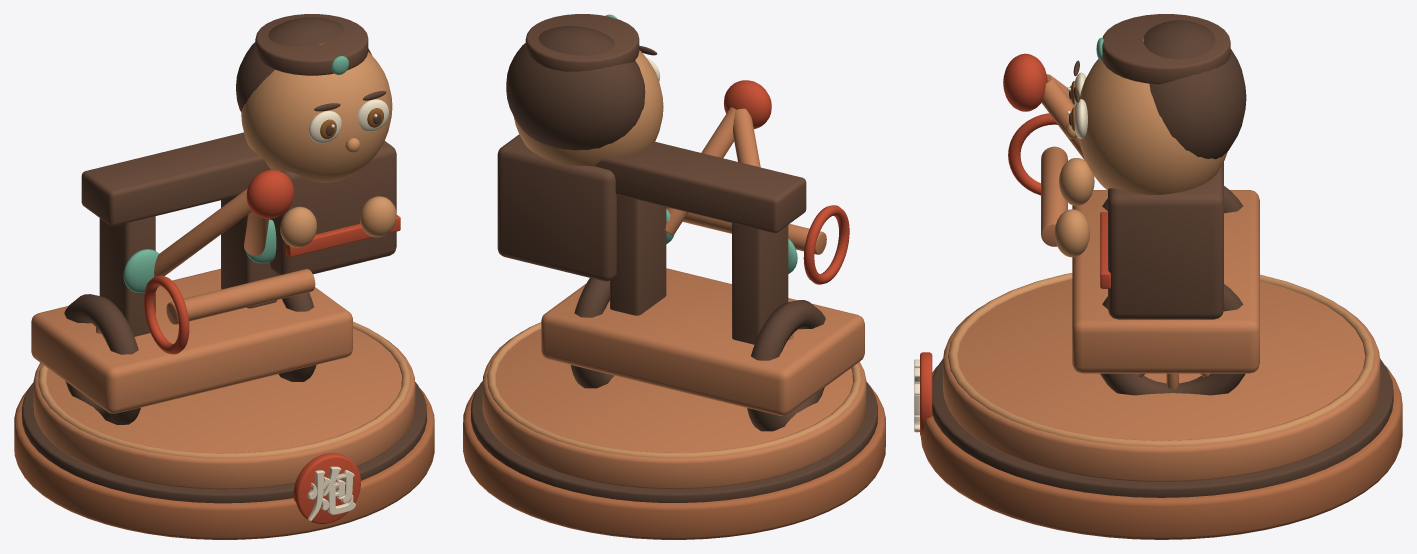
The model's file is red-cannon-terracotta-cartoon-v1.glb.
3 renders of one model, left to right at view 1: azimuth 30°, elevation 25°; view 2: azimuth 150°, elevation 25°; view 3: azimuth 270°, elevation 25°, orthographic. The views are drawn at different scales.
Visible parts, largest first — view 1: Red Cannon Qin Terracotta Cartoon V1 - Joined Mesh; view 2: Red Cannon Qin Terracotta Cartoon V1 - Joined Mesh; view 3: Red Cannon Qin Terracotta Cartoon V1 - Joined Mesh.
Part boxes in pixels (x1,y1,x2,y2): Red Cannon Qin Terracotta Cartoon V1 - Joined Mesh: [14, 14, 434, 539]; Red Cannon Qin Terracotta Cartoon V1 - Joined Mesh: [463, 14, 885, 539]; Red Cannon Qin Terracotta Cartoon V1 - Joined Mesh: [914, 14, 1402, 539].
Size of the model in its own units: 2.16 by 2.28 by 2.19.
